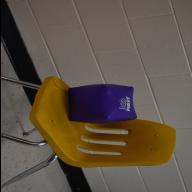cube: (67, 83, 137, 125)
